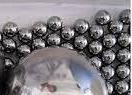ironball: (6, 42, 116, 94), (0, 22, 26, 36), (15, 43, 34, 59), (101, 46, 116, 65), (96, 8, 113, 24), (1, 36, 17, 53), (29, 22, 47, 37), (45, 13, 61, 29), (75, 17, 89, 35), (106, 20, 124, 34), (118, 6, 131, 24), (91, 38, 103, 57), (103, 33, 118, 48), (87, 56, 103, 70), (91, 23, 105, 38), (60, 25, 75, 39), (99, 65, 114, 79), (119, 33, 131, 50), (117, 65, 131, 79), (47, 33, 61, 46), (118, 49, 131, 63), (75, 36, 88, 49), (117, 81, 129, 95), (33, 39, 47, 50), (60, 41, 75, 49)
